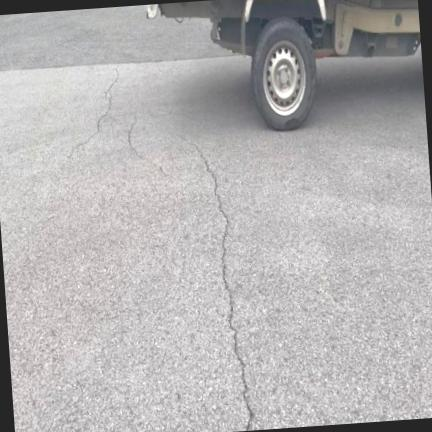Road: (0, 56, 431, 431)
